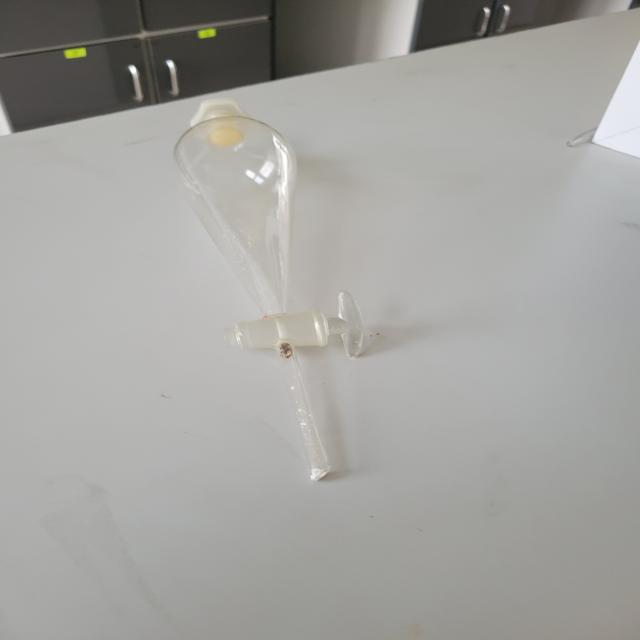Separating_Funnel: (124, 76, 408, 518)
